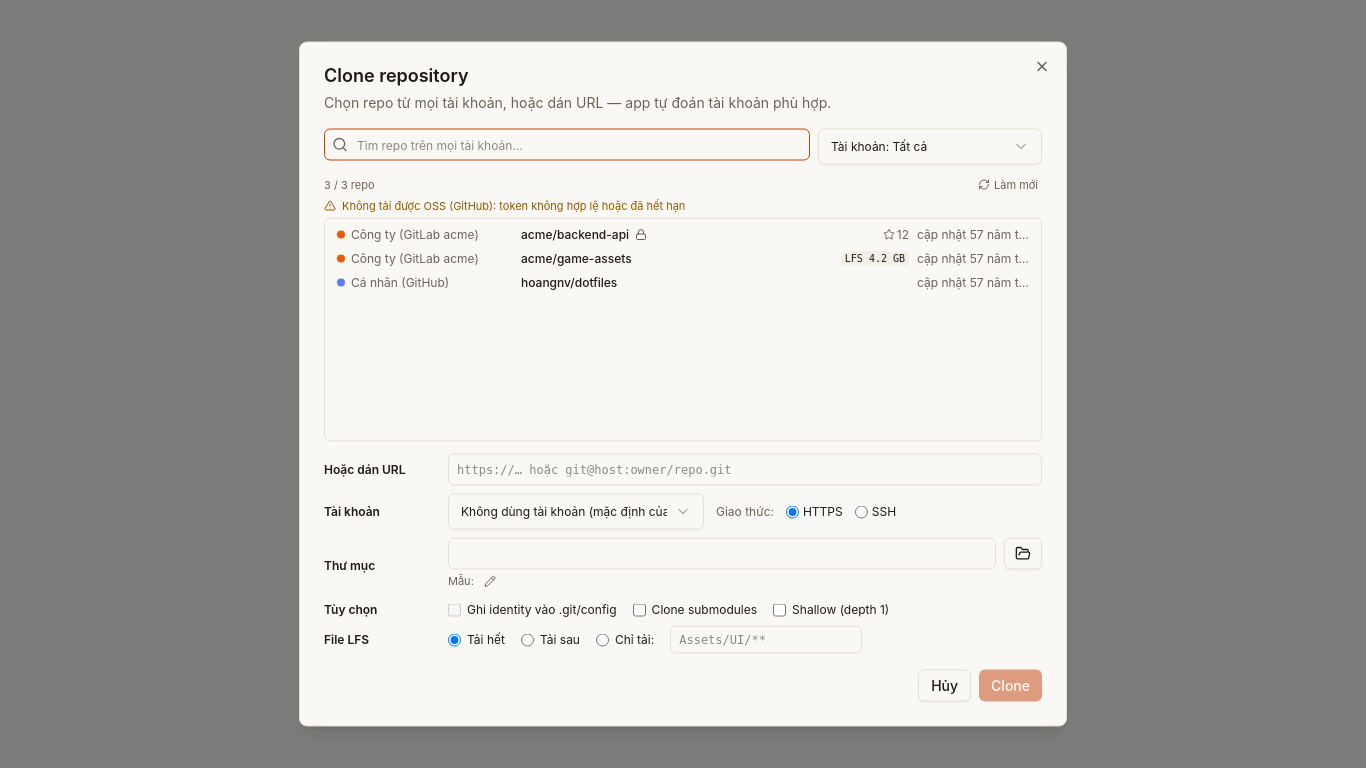
Test: CloneDialog › lists repositories of every account with badges and per-account errors
Expected: the number of options is 3, [329,222,1037,246]; [329,246,1037,270]; [329,270,1037,294]
Expected: the option with aria-label "https://gitlab.acme.dev/acme/backend-api" shows "Công ty (GitLab acme)", [329,222,1037,246]
In the field labelled "Tìm repo trên mọi tài khoản...": (567, 144) [324,128,810,160], type "dotfiles"
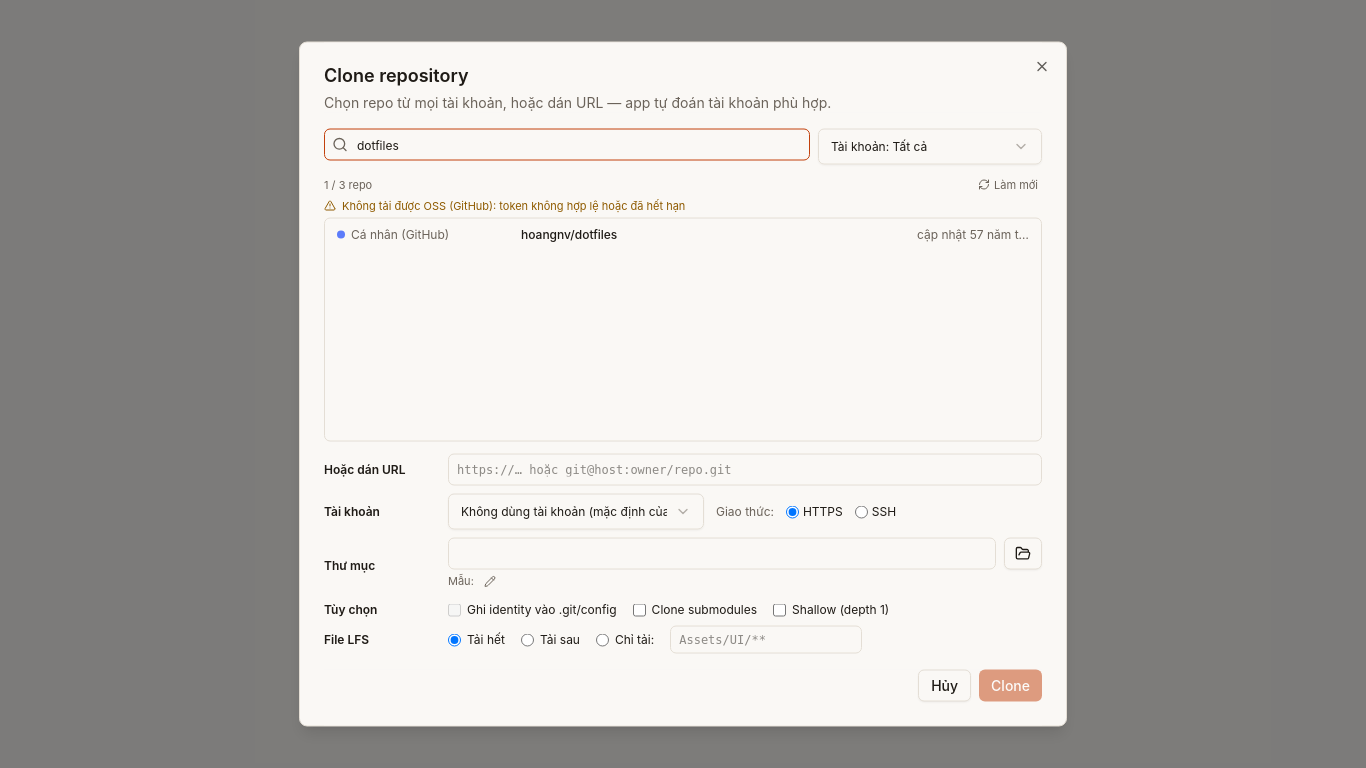
Expected: the option shows "Cá nhân (GitHub)", [329,222,1037,246]
Result: the number of options is 1 at [329,222,1037,246]
